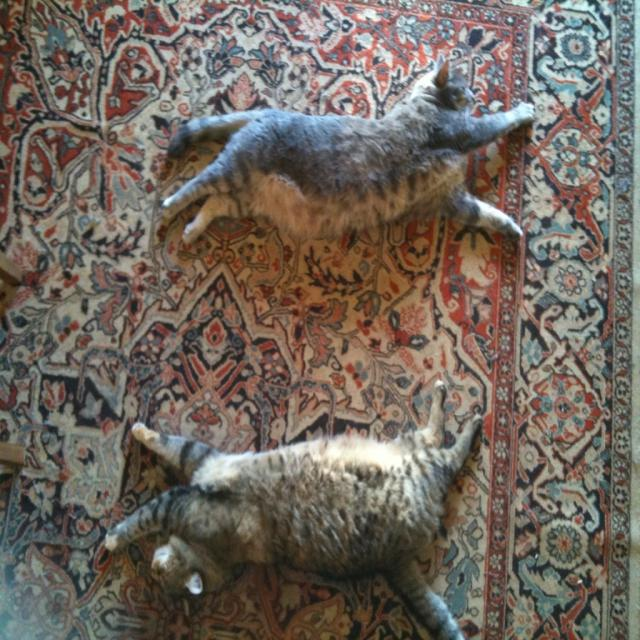Cat: (104, 379, 482, 639), (160, 53, 534, 245)
